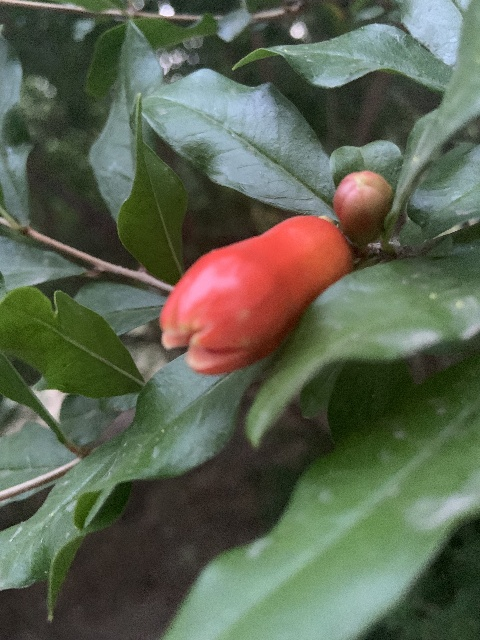bud: (333, 170, 393, 243)
flower: (159, 215, 353, 376)
